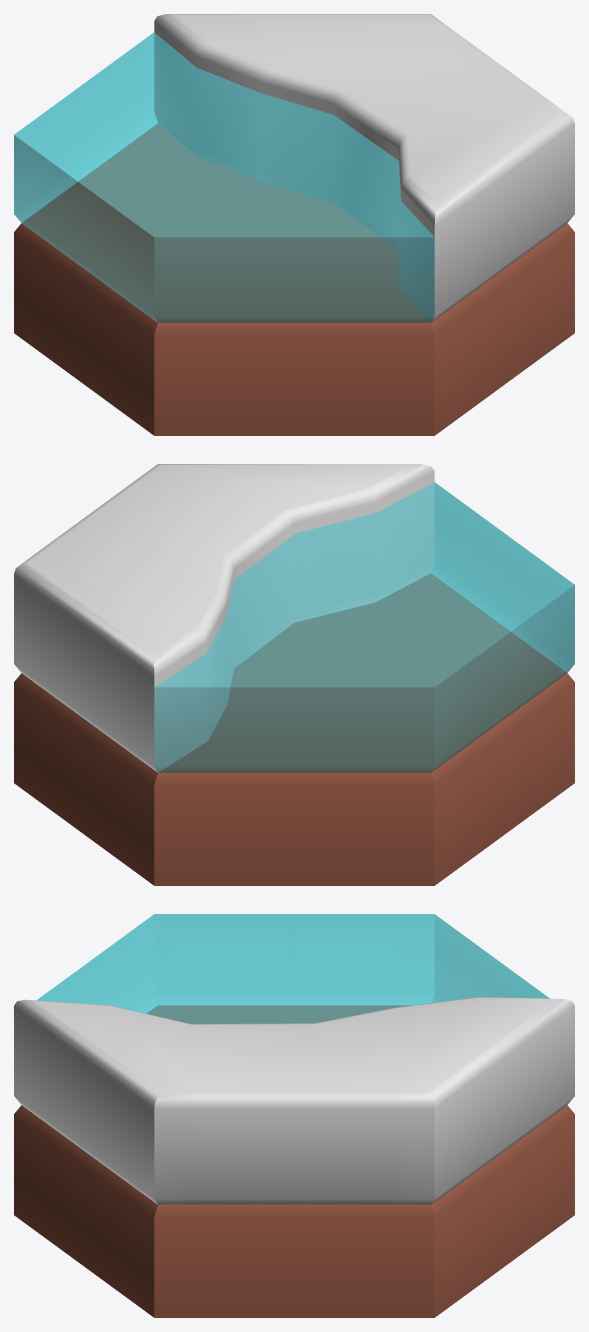
The model's file is hex_snow_waterC_detail.fbx.
3 views of the same model, one above another, from view 1: azimuth 30°, elevation 25°; view 2: azimuth 150°, elevation 25°; view 3: azimuth 270°, elevation 25° (orthographic).
Visible parts, largest first — view 1: hex_snow_waterC_detail; view 2: hex_snow_waterC_detail; view 3: hex_snow_waterC_detail.
Boxes of the visible parts, <box> form: hex_snow_waterC_detail: <box>14,14,574,435</box>; hex_snow_waterC_detail: <box>14,464,574,885</box>; hex_snow_waterC_detail: <box>14,914,574,1317</box>.
Bounding box in the file's own units: 2 × 1 × 2.31.
